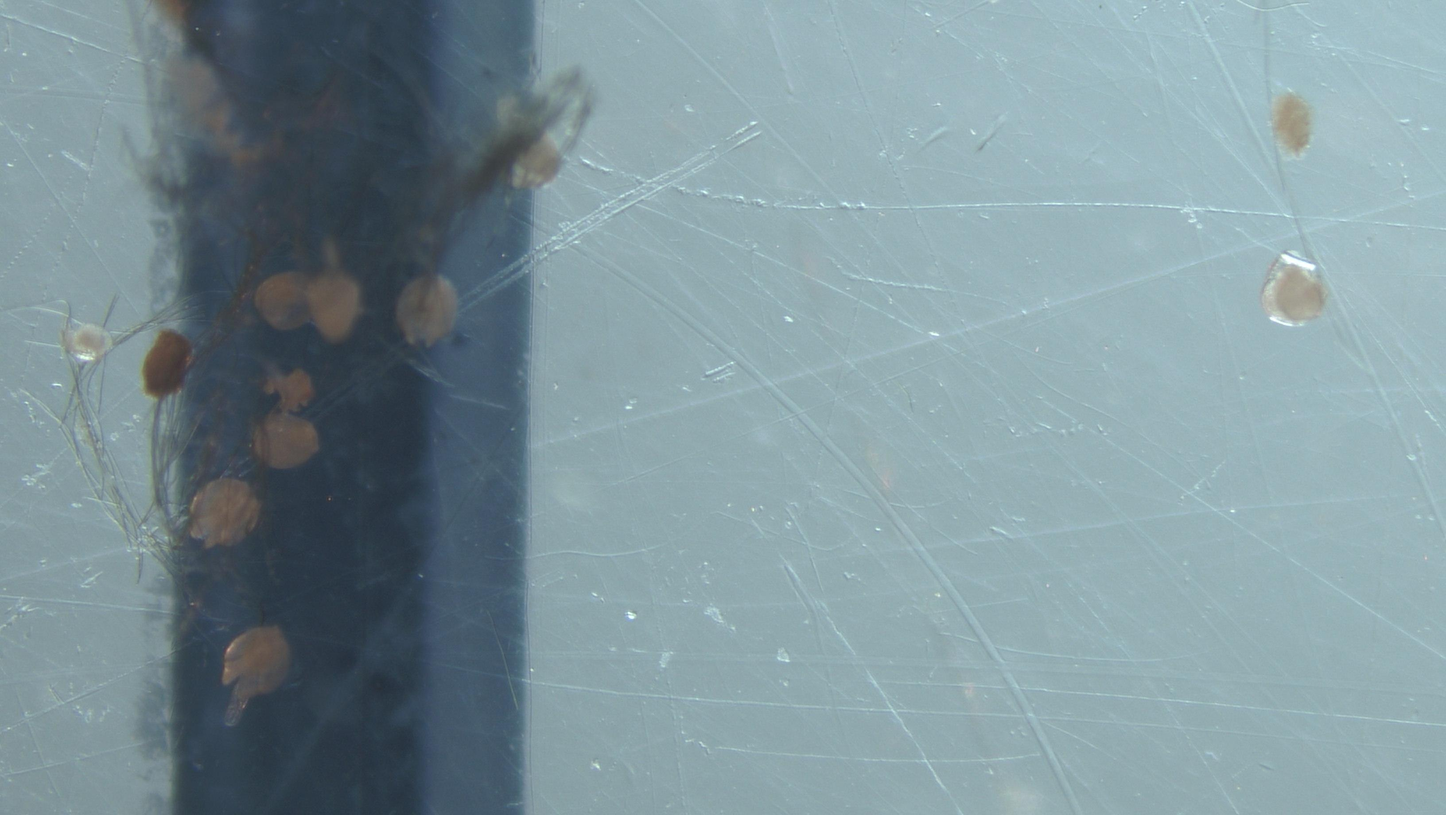live: (252, 370, 319, 470), (222, 625, 292, 720), (188, 475, 262, 547), (1261, 252, 1326, 326), (396, 275, 457, 347), (305, 275, 361, 341), (143, 330, 192, 399), (255, 272, 310, 331), (1274, 94, 1310, 154), (1273, 280, 1323, 323)
